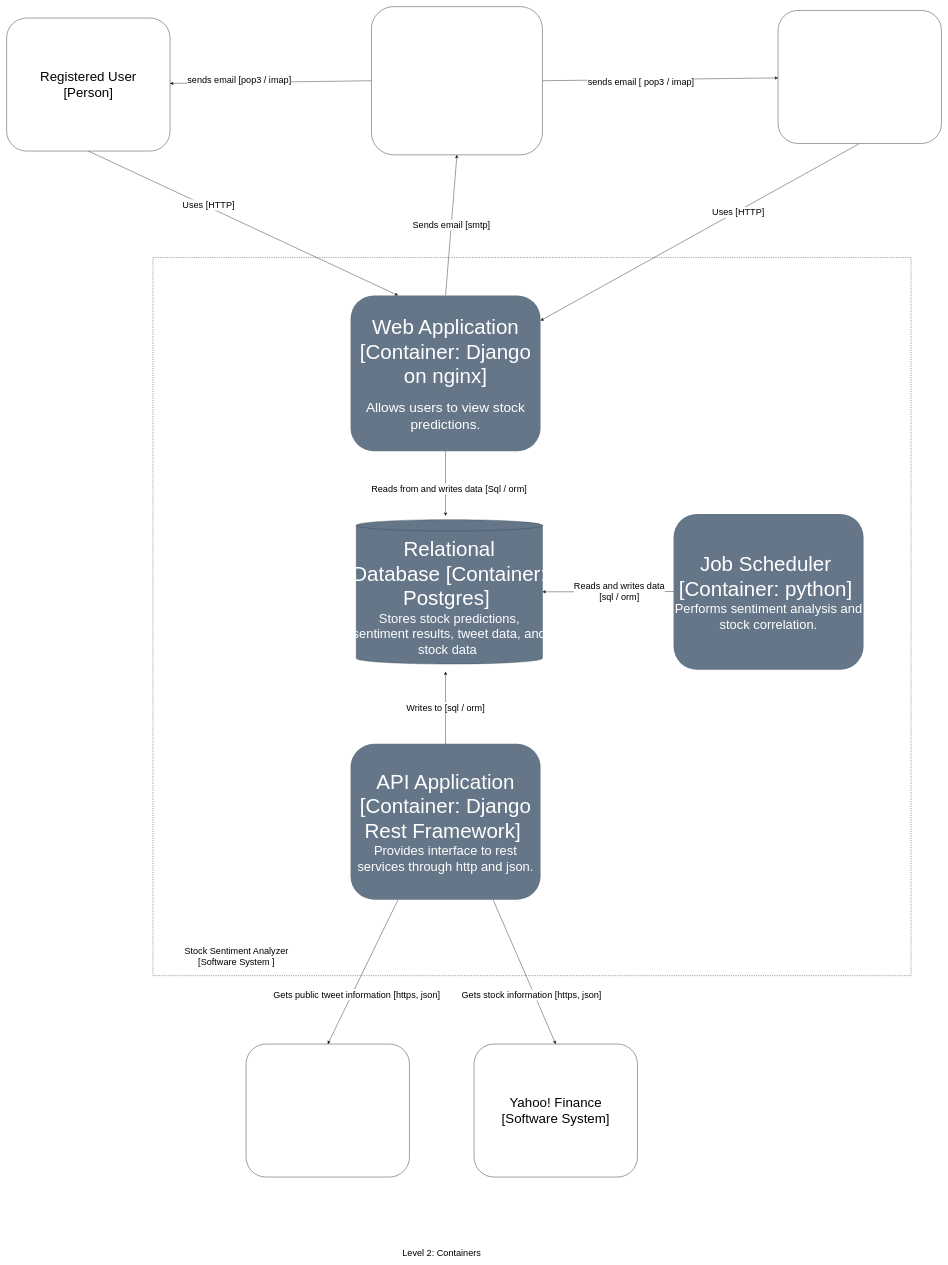
Some shapes in this 948 by 1265 pixel diagram are drawn without their labels. Each missing label, with the box of its shape:
Administration User [Person]: (778, 10, 941, 143)
Email System [Software System]: (371, 6, 542, 155)
Twitter [Software System]: (246, 1044, 409, 1177)
